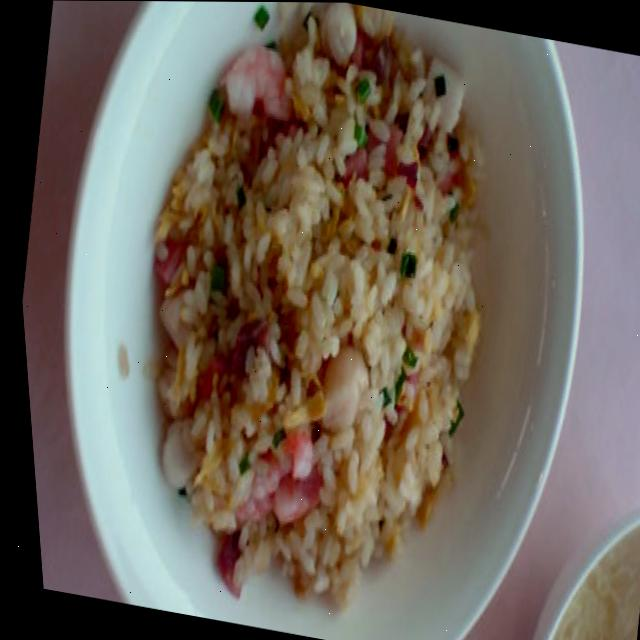米饭主食: (80, 0, 536, 637)
